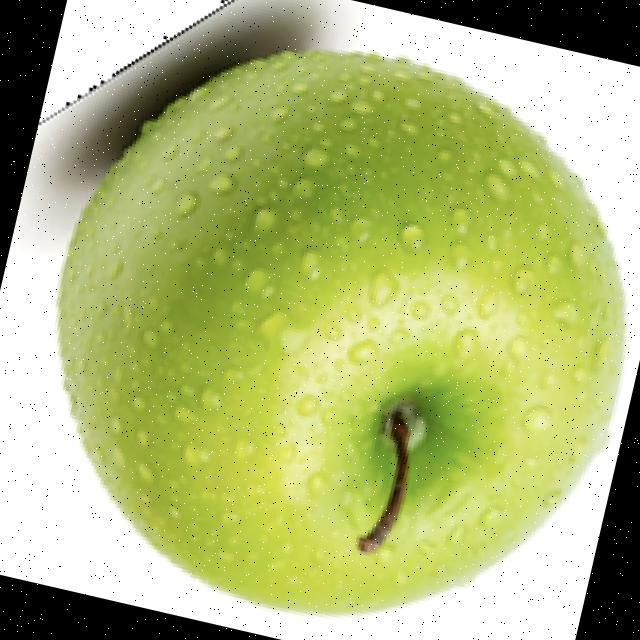apple: (13, 0, 631, 621)
